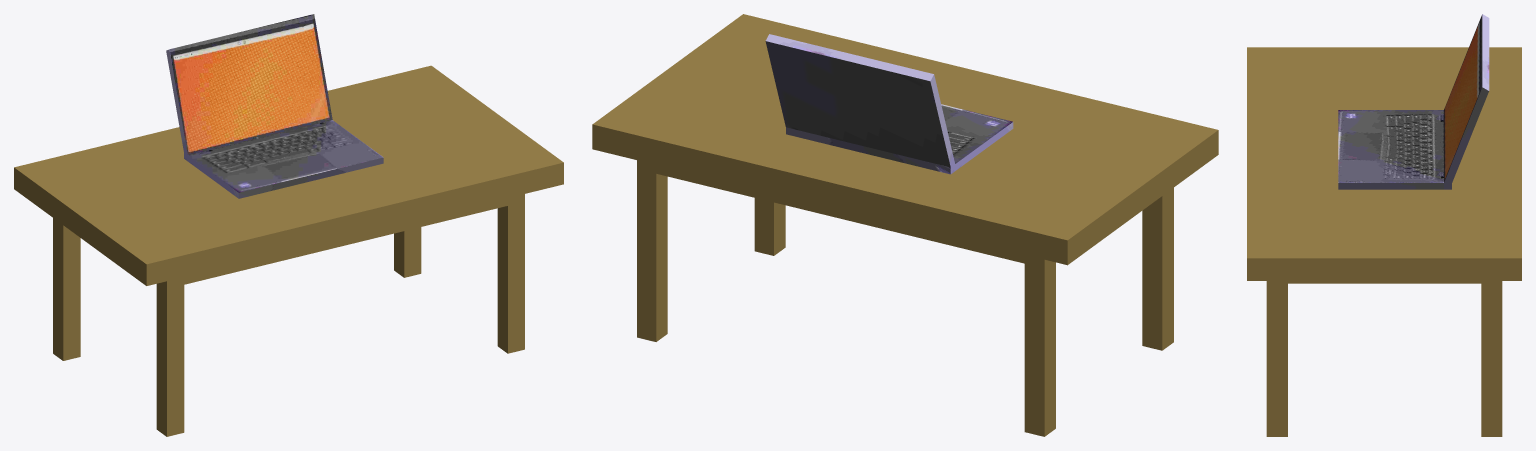
The model's file is Komputer.fbx.
The picture shows the model from 3 angles, left to right: view 1: azimuth 30°, elevation 25°; view 2: azimuth 150°, elevation 25°; view 3: azimuth 270°, elevation 25°; orthographic projection. The views are drawn at different scales.
Parts seen in each view (by area): view 1: Meja, Laptop; view 2: Meja, Laptop; view 3: Meja, Laptop.
Boxes of the visible parts, <box> form: Meja: <box>14,65,563,436</box>; Laptop: <box>166,14,383,198</box>; Meja: <box>592,14,1218,436</box>; Laptop: <box>765,34,1013,174</box>; Meja: <box>1247,47,1521,436</box>; Laptop: <box>1338,14,1489,189</box>.
Bounding box in the file's own units: 233 × 152 × 128.
Materials: 2 (1 with a texture image).
